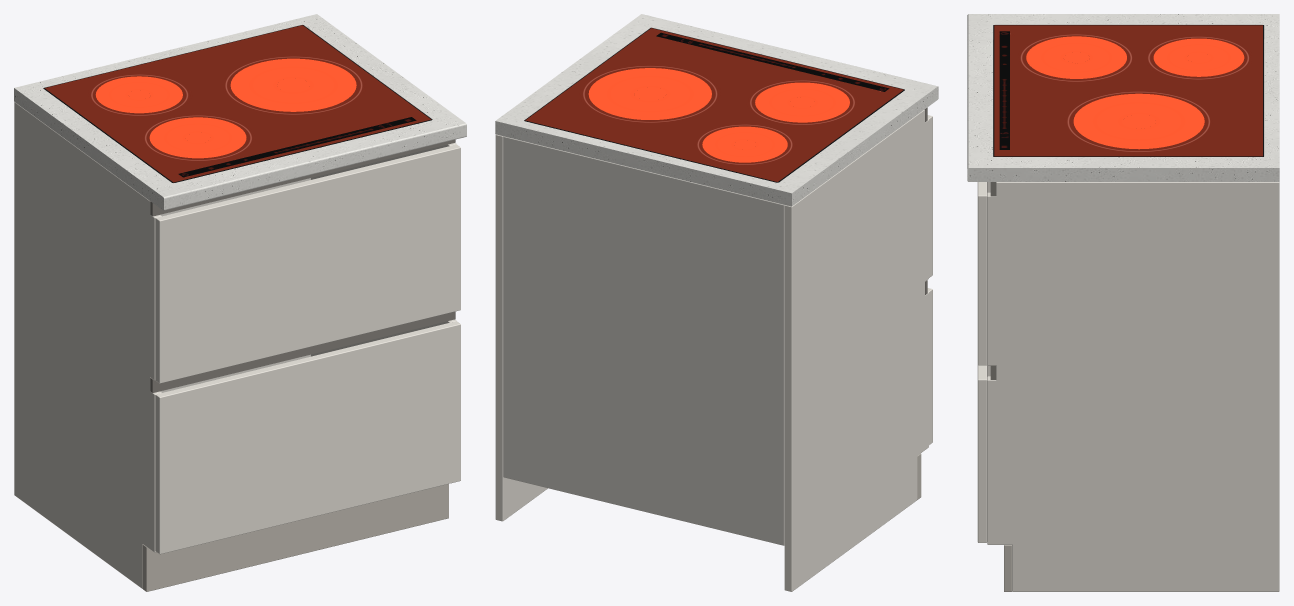
Rendered from induction_counter.glb.
3 renders of one model, left to right at view 1: azimuth 30°, elevation 25°; view 2: azimuth 150°, elevation 25°; view 3: azimuth 270°, elevation 25°, orthographic. The views are drawn at different scales.
Visible parts, largest first — view 1: induction_counter_fronts, induction_counter_carcass, induction_counter_zones, induction_counter_cooktop, induction_counter_countertop, induction_counter_gola, induction_counter_touch_display; view 2: induction_counter_carcass, induction_counter_zones, induction_counter_cooktop, induction_counter_countertop, induction_counter_fronts, induction_counter_touch_display; view 3: induction_counter_carcass, induction_counter_zones, induction_counter_cooktop, induction_counter_countertop, induction_counter_fronts, induction_counter_touch_display.
Part boxes in pixels (x1=…): induction_counter_fronts: x1=155, y1=144, x2=460, y2=554; induction_counter_carcass: x1=14, y1=102, x2=456, y2=591; induction_counter_zones: x1=45, y1=25, x2=430, y2=182; induction_counter_cooktop: x1=43, y1=25, x2=432, y2=182; induction_counter_countertop: x1=14, y1=14, x2=466, y2=210; induction_counter_gola: x1=150, y1=139, x2=455, y2=392; induction_counter_touch_display: x1=178, y1=117, x2=416, y2=177; induction_counter_carcass: x1=495, y1=109, x2=928, y2=591; induction_counter_zones: x1=525, y1=28, x2=902, y2=181; induction_counter_cooktop: x1=524, y1=27, x2=904, y2=182; induction_counter_countertop: x1=495, y1=14, x2=938, y2=206; induction_counter_fronts: x1=927, y1=115, x2=932, y2=444; induction_counter_touch_display: x1=656, y1=32, x2=889, y2=91; induction_counter_carcass: x1=987, y1=39, x2=1279, y2=591; induction_counter_zones: x1=994, y1=25, x2=1262, y2=156; induction_counter_cooktop: x1=993, y1=25, x2=1263, y2=156; induction_counter_countertop: x1=967, y1=14, x2=1279, y2=181; induction_counter_fronts: x1=977, y1=182, x2=987, y2=542; induction_counter_touch_display: x1=999, y1=31, x2=1009, y2=149.
Bounding box in the file's own units: 0.7 × 0.9006 × 0.6.
Materials: 12 (3 with a texture image).
